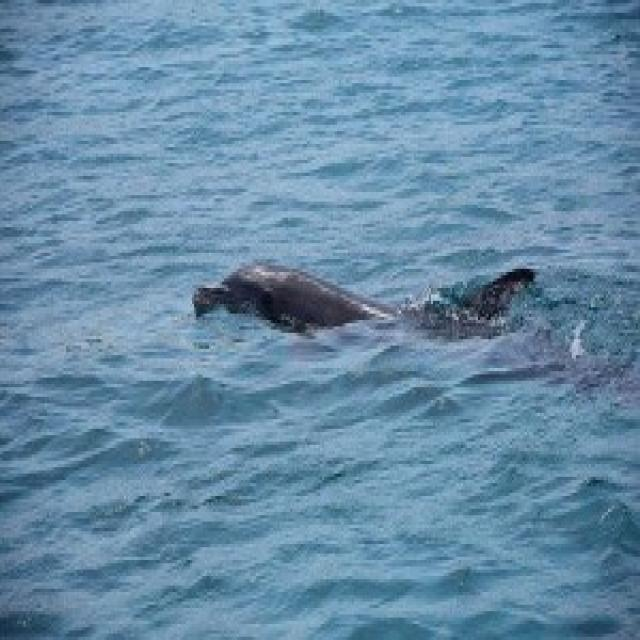Dolphin: (186, 252, 638, 418)
